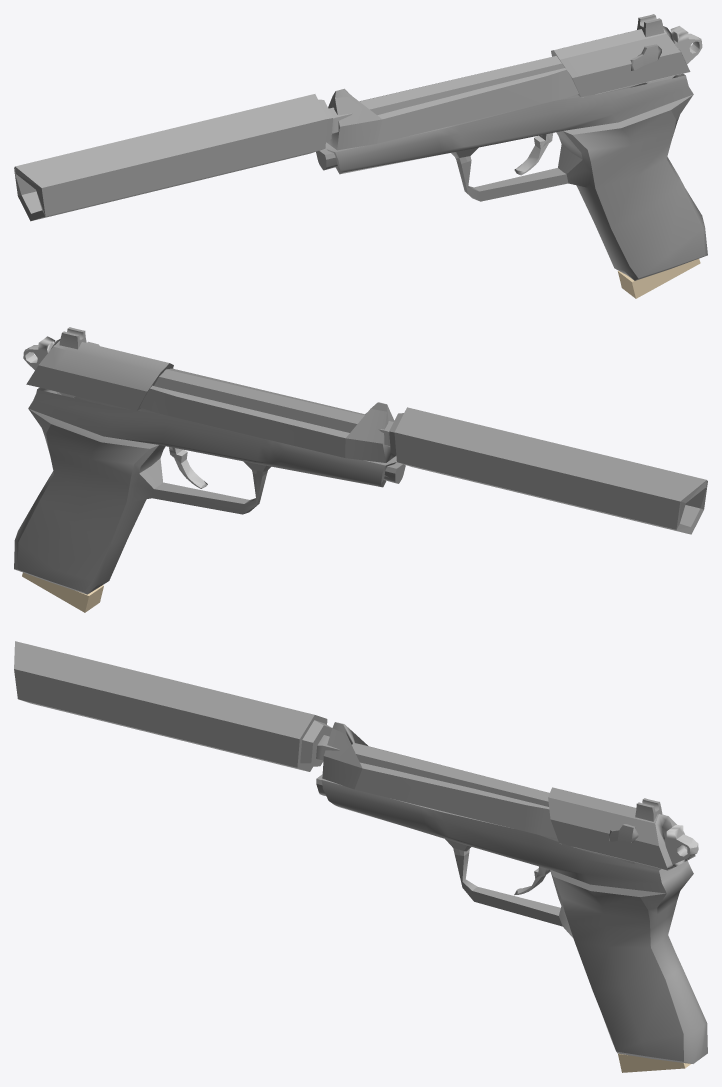
File: BerretaDraco.fbx
3 renders of one model, top to bottom at view 1: azimuth 30°, elevation 25°; view 2: azimuth 150°, elevation 25°; view 3: azimuth 330°, elevation 25°, orthographic.
Parts seen in each view (by area): view 1: Body, pCylinder2, polySurface1, pCylinder1, polySurface13, Percutor1, pasted__Gatillo, pCube3, pCube2; view 2: Body, pCylinder2, polySurface1, pCylinder1, polySurface13, Percutor1, pasted__Gatillo; view 3: Body, pCylinder2, polySurface1, pCylinder1, Percutor1, polySurface13.
Boxes of the visible parts, left/top/right/bottom form: Body: left=316, top=73, right=707, bottom=280; pCylinder2: left=14, top=94, right=333, bottom=221; polySurface1: left=326, top=26, right=690, bottom=150; pCylinder1: left=328, top=56, right=564, bottom=133; polySurface13: left=617, top=258, right=700, bottom=298; Percutor1: left=646, top=26, right=702, bottom=83; pasted__Gatillo: left=514, top=133, right=553, bottom=175; pCube3: left=630, top=44, right=661, bottom=70; pCube2: left=637, top=14, right=664, bottom=37; Body: left=14, top=387, right=405, bottom=594; pCylinder2: left=389, top=407, right=707, bottom=534; polySurface1: left=26, top=339, right=395, bottom=462; pCylinder1: left=154, top=368, right=393, bottom=446; polySurface13: left=22, top=572, right=103, bottom=612; Percutor1: left=23, top=336, right=75, bottom=397; pasted__Gatillo: left=169, top=447, right=207, bottom=488; Body: left=316, top=774, right=707, bottom=1063; pCylinder2: left=14, top=641, right=332, bottom=771; polySurface1: left=322, top=722, right=695, bottom=870; pCylinder1: left=316, top=735, right=549, bottom=806; Percutor1: left=635, top=825, right=698, bottom=870; polySurface13: left=618, top=1053, right=690, bottom=1072.
Bounding box in the file's own units: 36.44 × 14.04 × 2.82.
